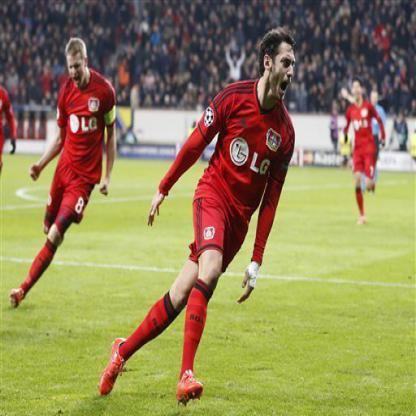football player standing: (122, 29, 300, 400), (22, 30, 119, 310)
